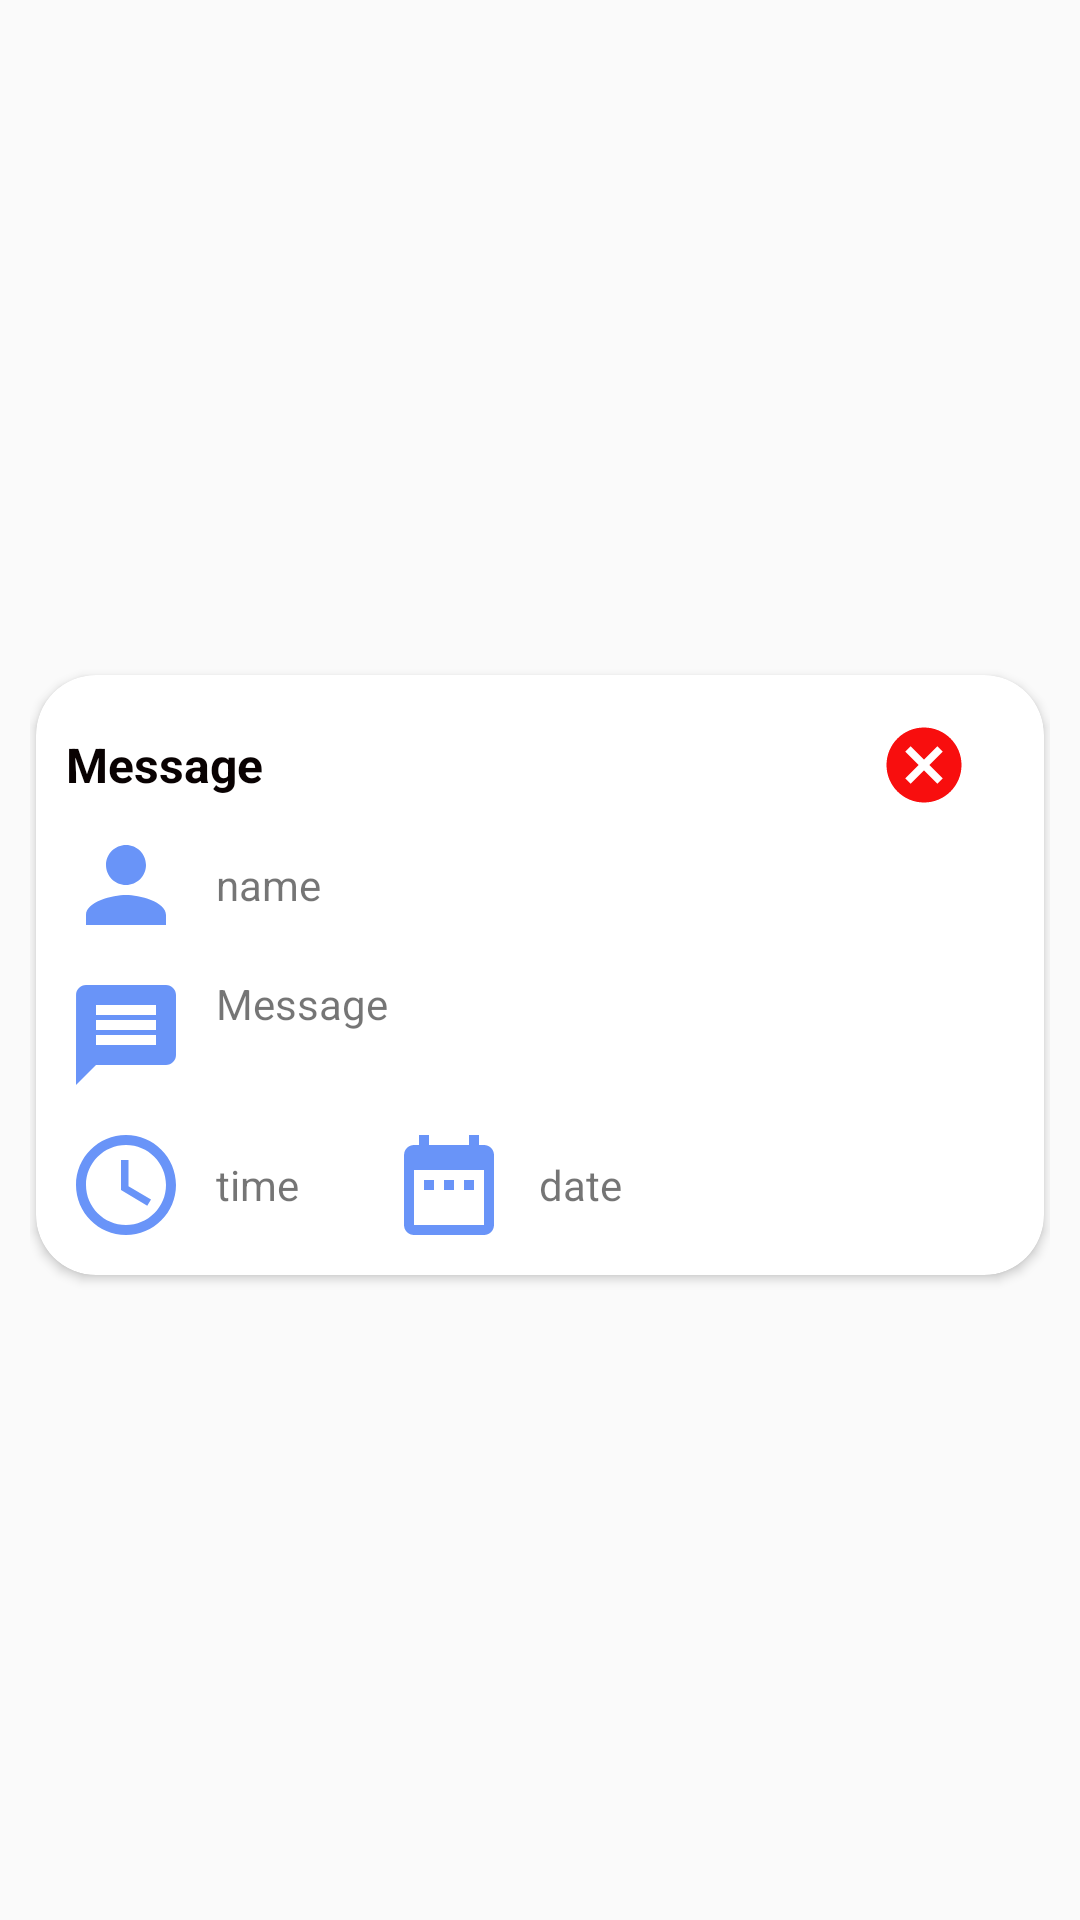

Icons on this 1080w x 1920h Android screen, each with the point to tap as (x,y):
cancel: (924,765)
person: (126,885)
